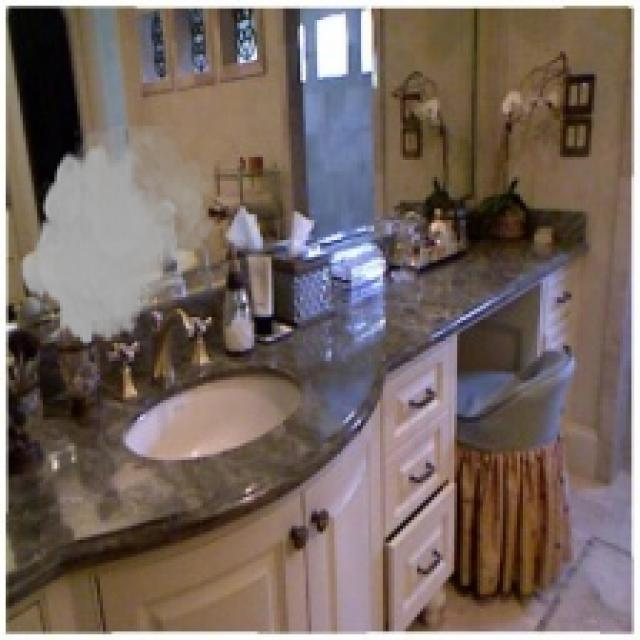smoke: (20, 125, 220, 348)
